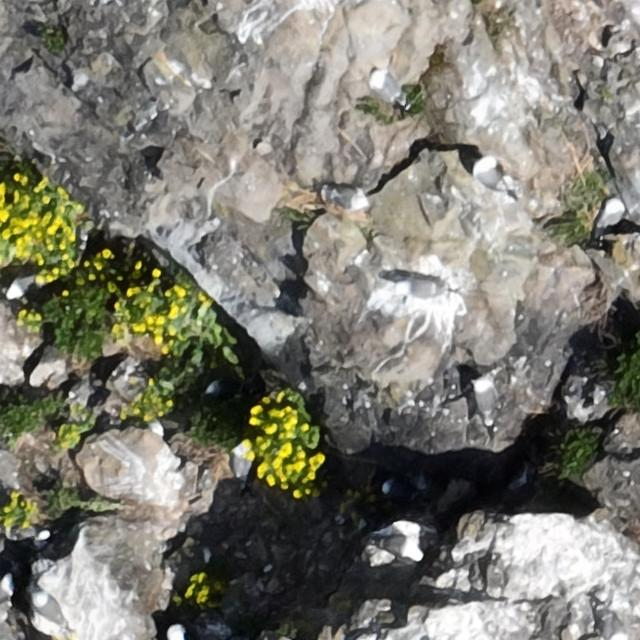umineko: (469, 373, 497, 430), (379, 536, 425, 562), (391, 277, 450, 295), (371, 74, 404, 104), (35, 594, 65, 627), (328, 188, 366, 209), (476, 159, 500, 187), (8, 273, 34, 298), (599, 199, 620, 229), (382, 480, 414, 499), (232, 446, 248, 478)
